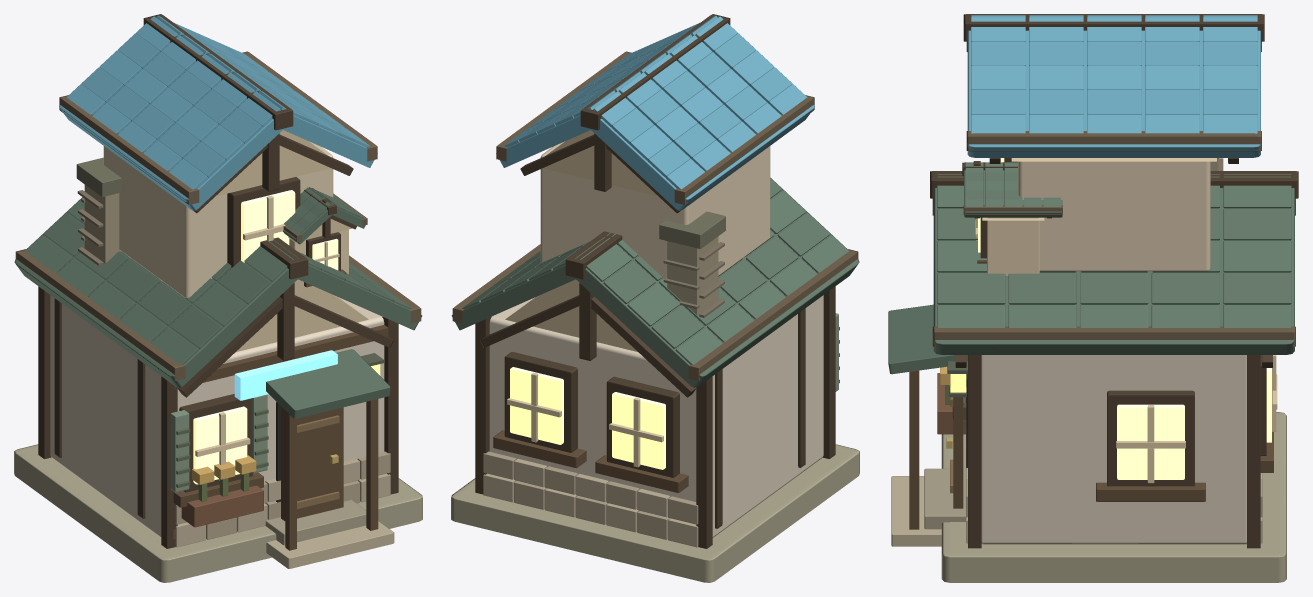
File: workshop-1.glb
3 renders of one model, left to right at view 1: azimuth 30°, elevation 25°; view 2: azimuth 150°, elevation 25°; view 3: azimuth 270°, elevation 25°, orthographic. The views are drawn at different scales.
Visible parts, largest first — view 1: workshop-0-1, door-hinge; view 2: workshop-0-1; view 3: workshop-0-1, door-hinge.
Boxes of the visible parts, bbox=[...] form: workshop-0-1: bbox=[14, 14, 422, 582]; door-hinge: bbox=[281, 406, 343, 520]; workshop-0-1: bbox=[451, 14, 859, 582]; workshop-0-1: bbox=[888, 14, 1298, 582]; door-hinge: bbox=[946, 374, 963, 508].
Size of the model in its own units: 1.88 by 2.97 by 2.24.
